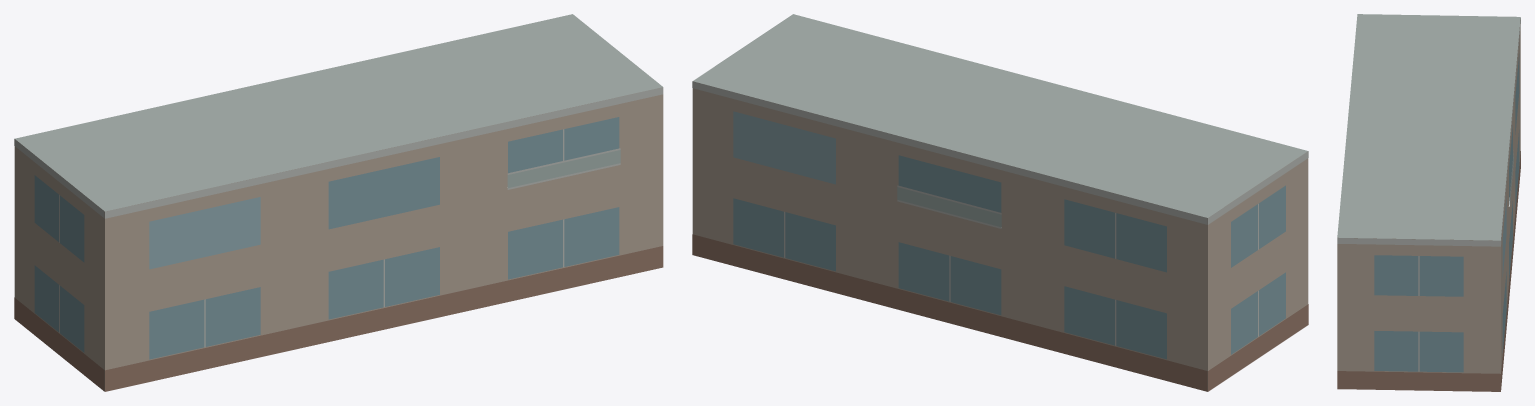
The model's file is survey-upis-32808354.glb.
3 renders of one model, left to right at view 1: azimuth 30°, elevation 25°; view 2: azimuth 150°, elevation 25°; view 3: azimuth 270°, elevation 25°, orthographic. The views are drawn at different scales.
Visible parts, largest first — view 1: survey-upis-32808354.tmp; view 2: survey-upis-32808354.tmp; view 3: survey-upis-32808354.tmp.
Part boxes in pixels (box(x1,y1,x2,y2)): survey-upis-32808354.tmp: box(14, 14, 663, 391); survey-upis-32808354.tmp: box(692, 14, 1308, 391); survey-upis-32808354.tmp: box(1337, 14, 1520, 391).
Bounding box in the file's own units: 19.6 × 6.1 × 6.72.
